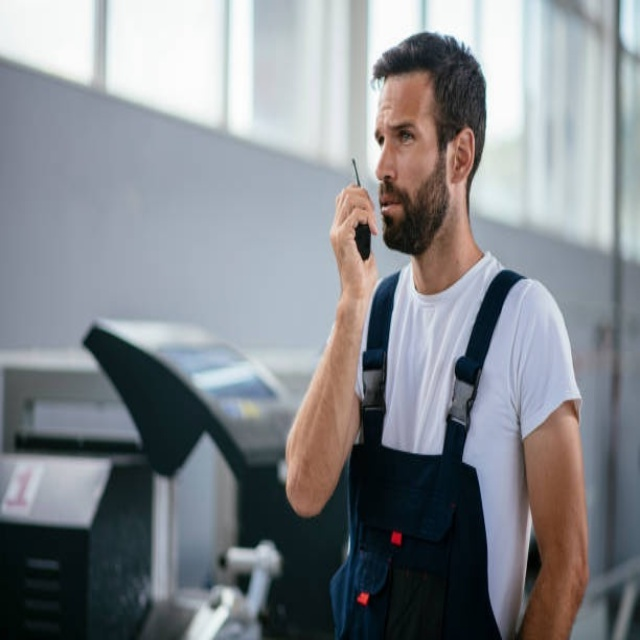Sin_gafas: (373, 108, 432, 158)
Sin_guantes: (329, 180, 380, 293)
Sin_mascara: (379, 184, 409, 234)
